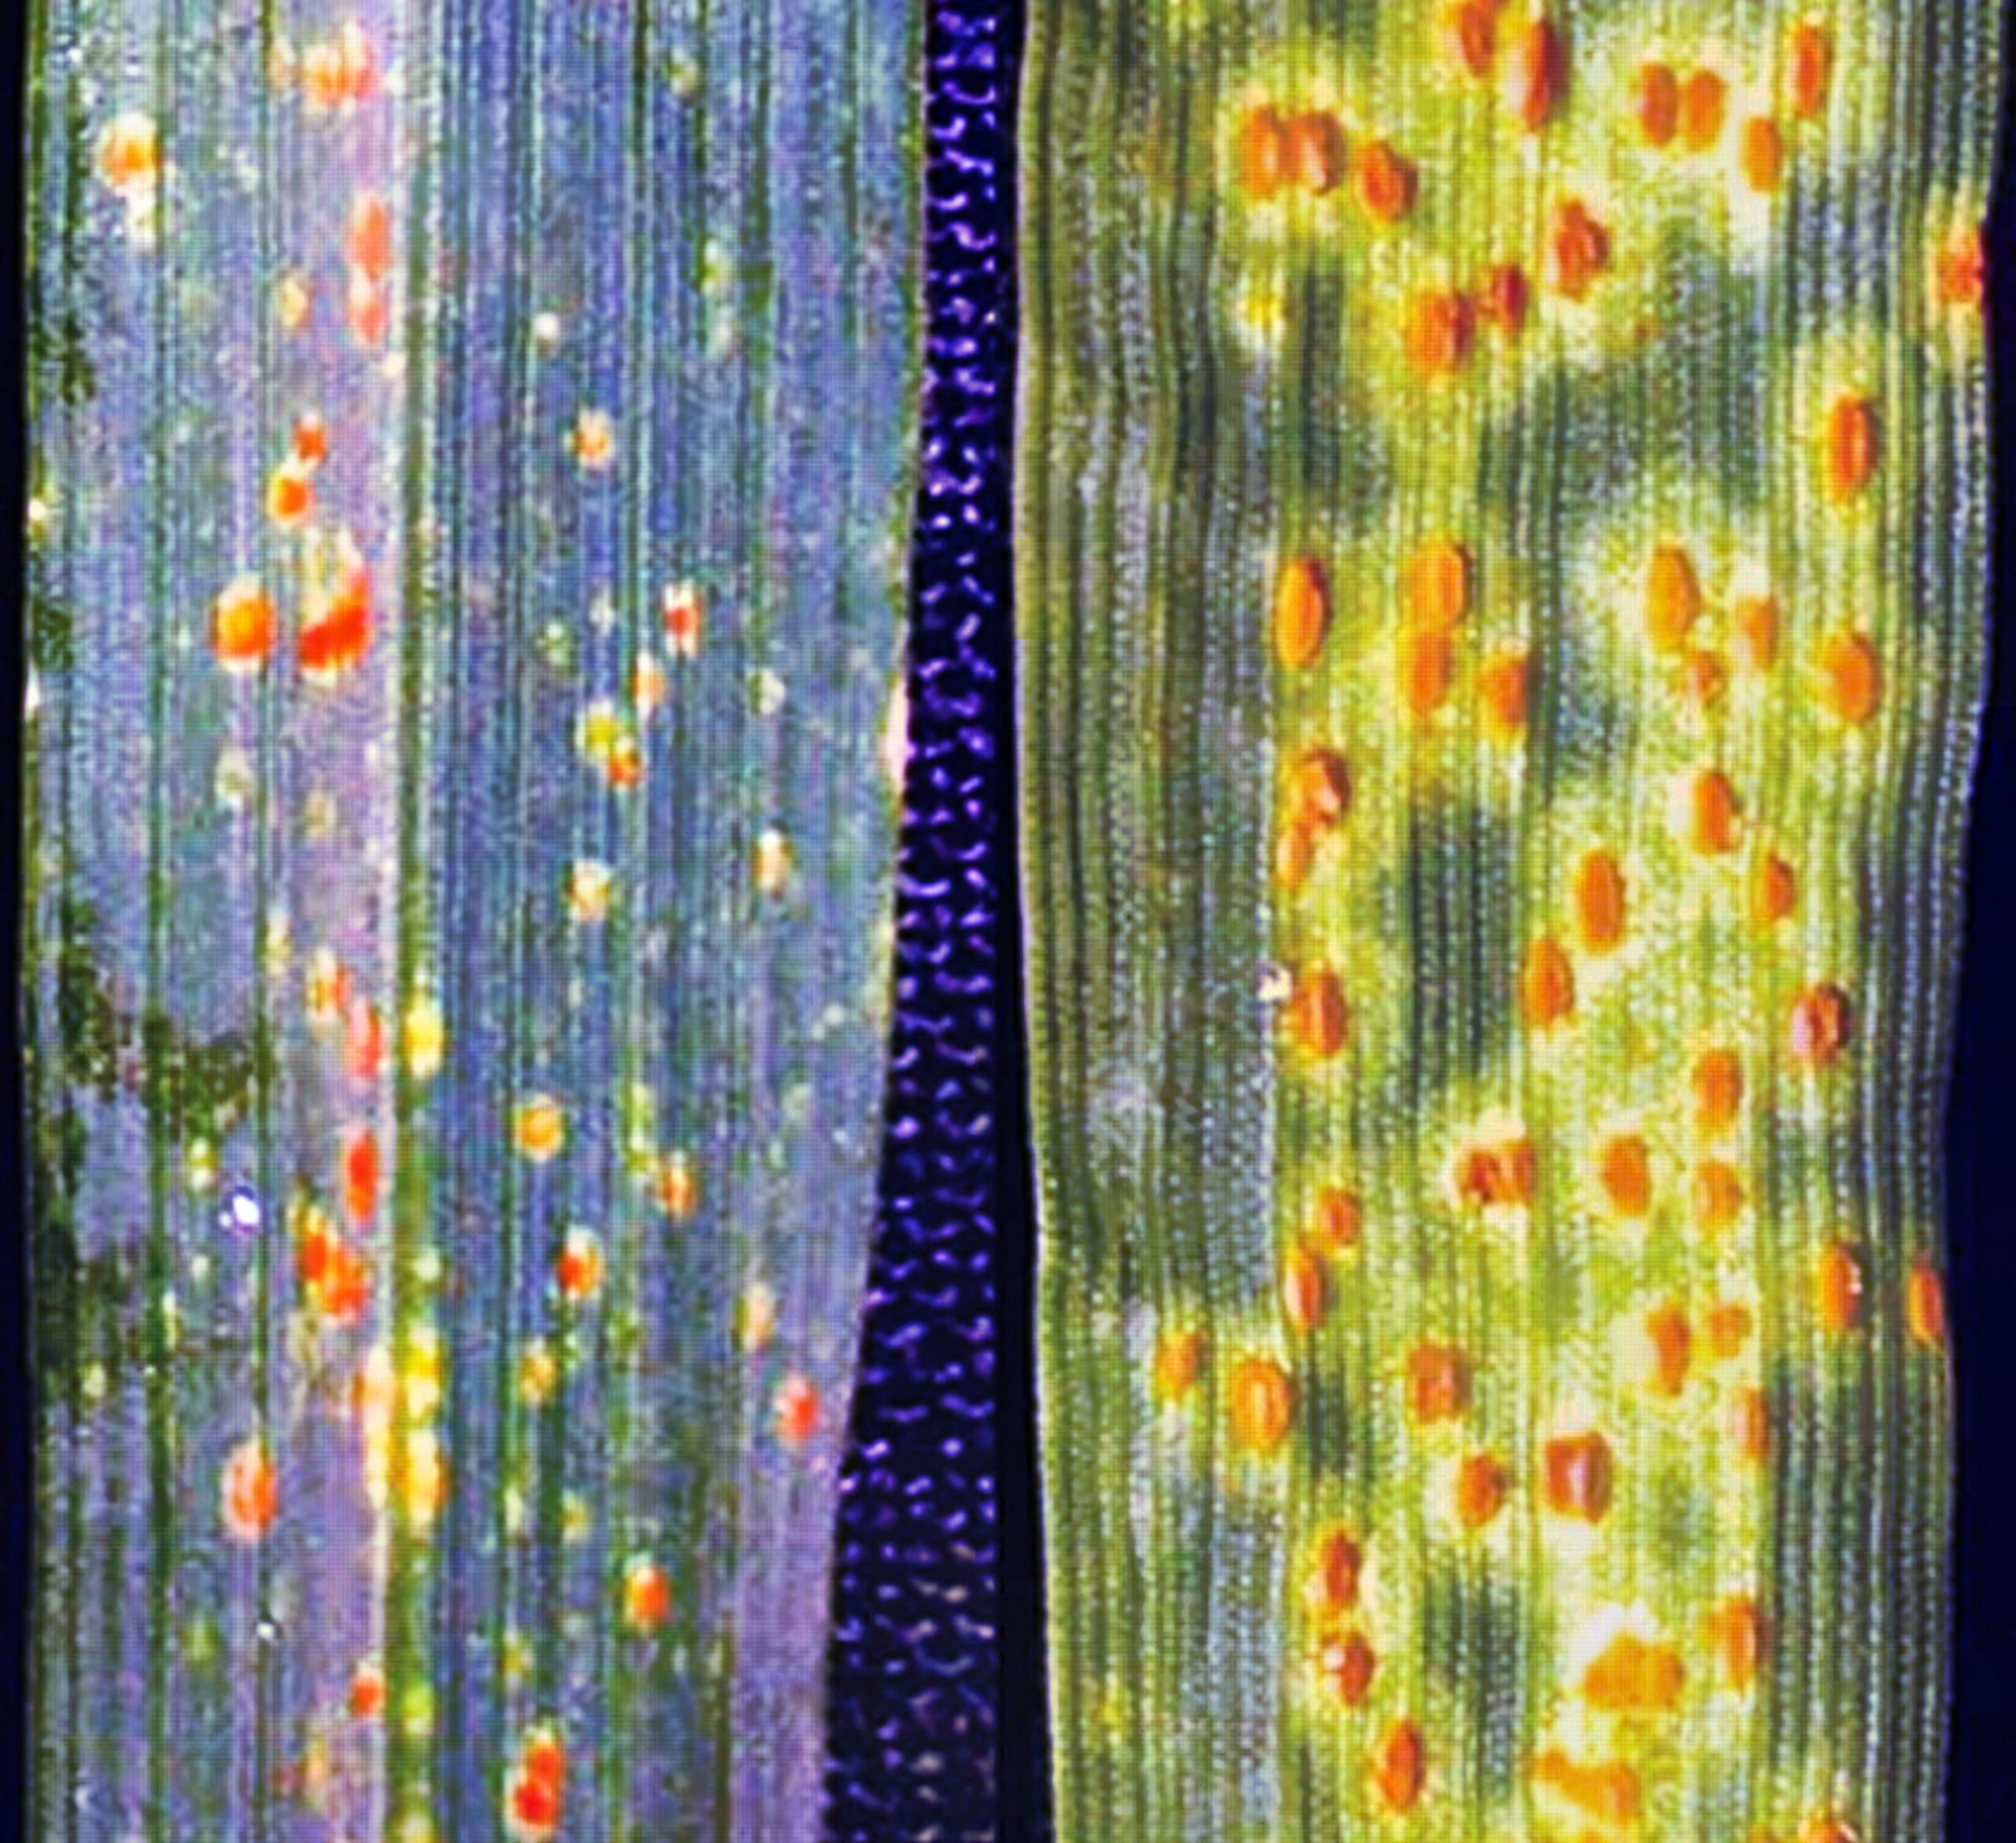Leaf Rust: (1166, 84, 2016, 1753)
